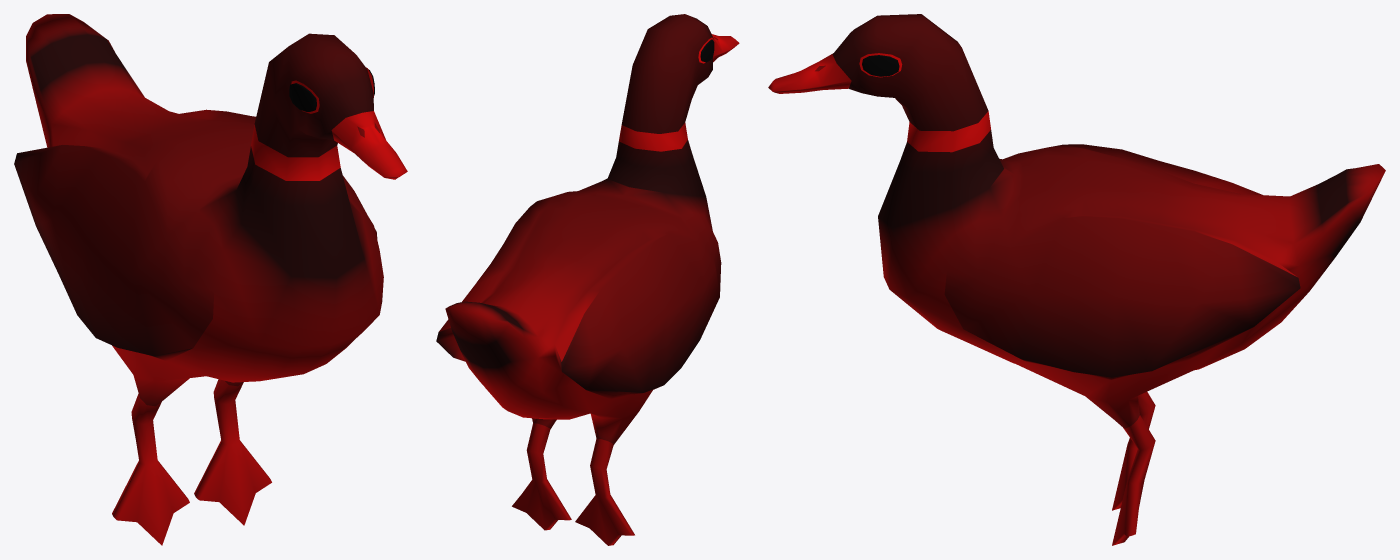
The model's file is duck_var_02.fbx.
3 views of the same model, side by side, from view 1: azimuth 30°, elevation 25°; view 2: azimuth 150°, elevation 25°; view 3: azimuth 270°, elevation 25° (orthographic). The views are drawn at different scales.
Parts seen in each view (by area): view 1: duck_var_02; view 2: duck_var_02; view 3: duck_var_02.
Boxes of the visible parts, bbox=[...] form: duck_var_02: bbox=[14, 14, 407, 545]; duck_var_02: bbox=[436, 14, 739, 545]; duck_var_02: bbox=[768, 14, 1385, 545].
Bounding box in the file's own units: 321 × 831 × 757.
